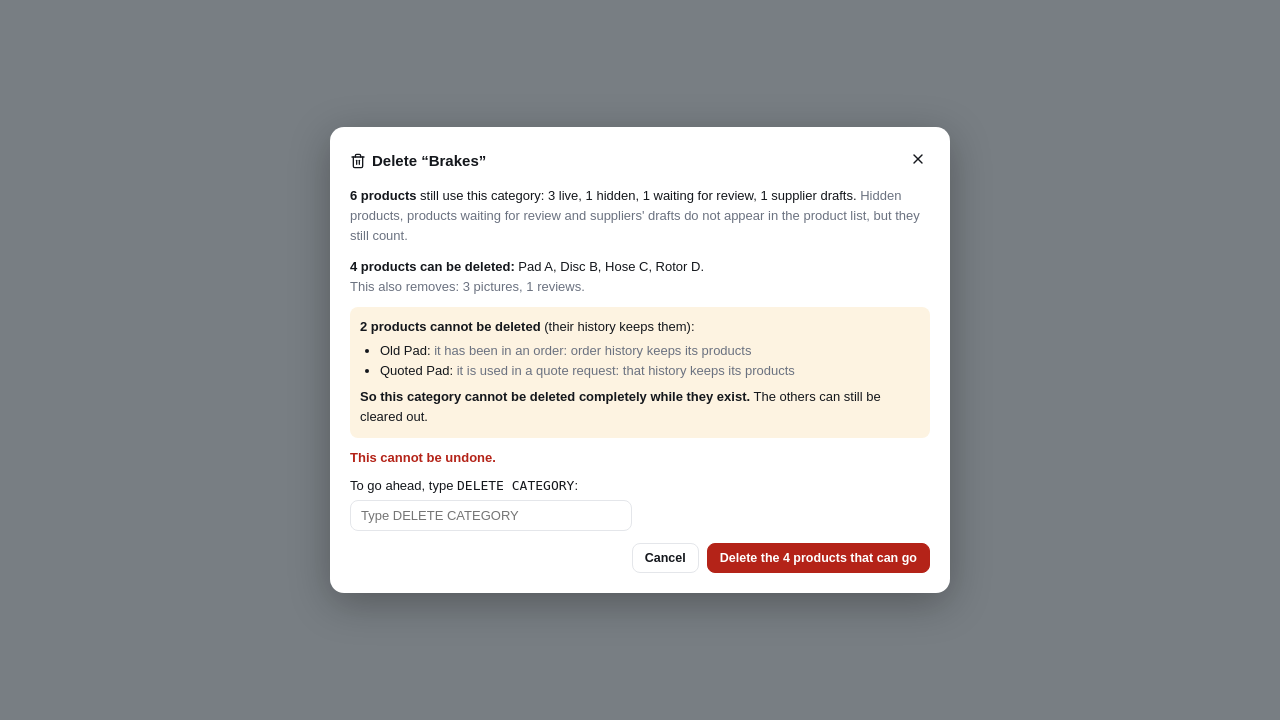
Test: clearing it out › sends the category and the sentence, then says what was deleted and why the category stays, and refreshes the page behind
The image size is (1280, 720).
Type "DELETE CATEGORY" into the field named "Type to confirm" at point(491, 515), box top-left (350, 500), bottom-right (632, 531)
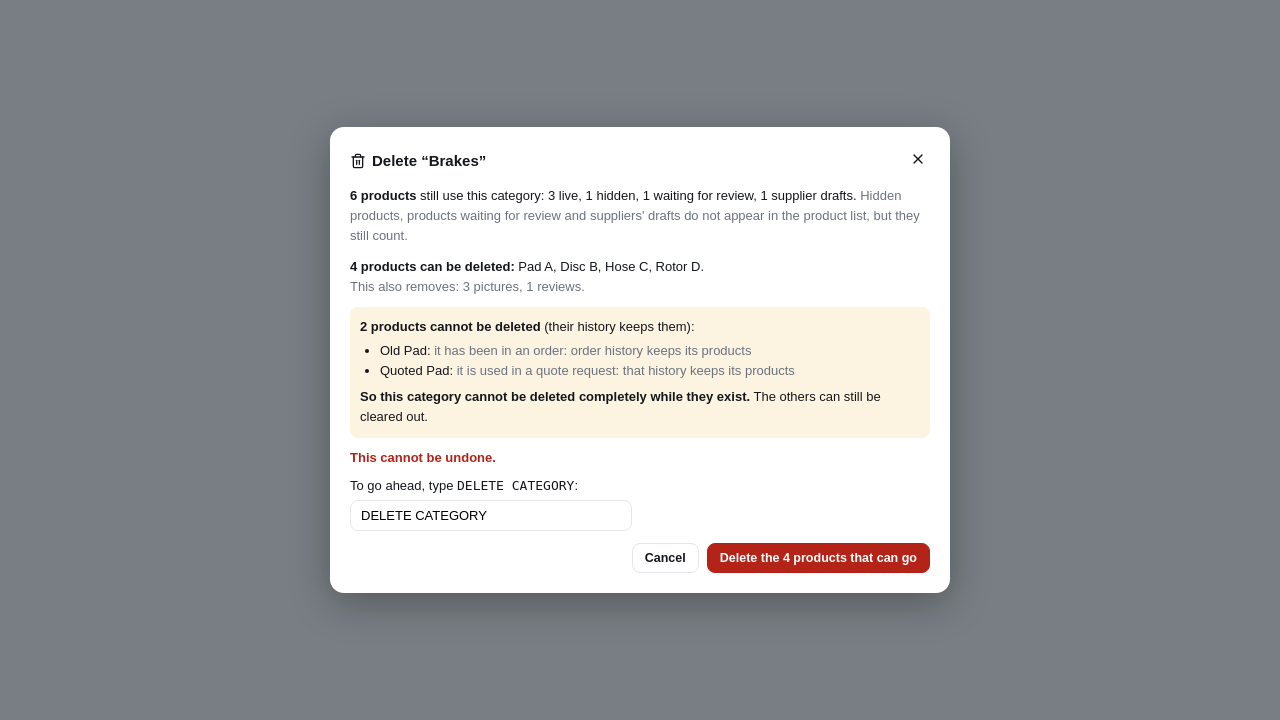
Click the button "Delete the 4 products that can go" at point(818, 558), box top-left (707, 543), bottom-right (930, 573)
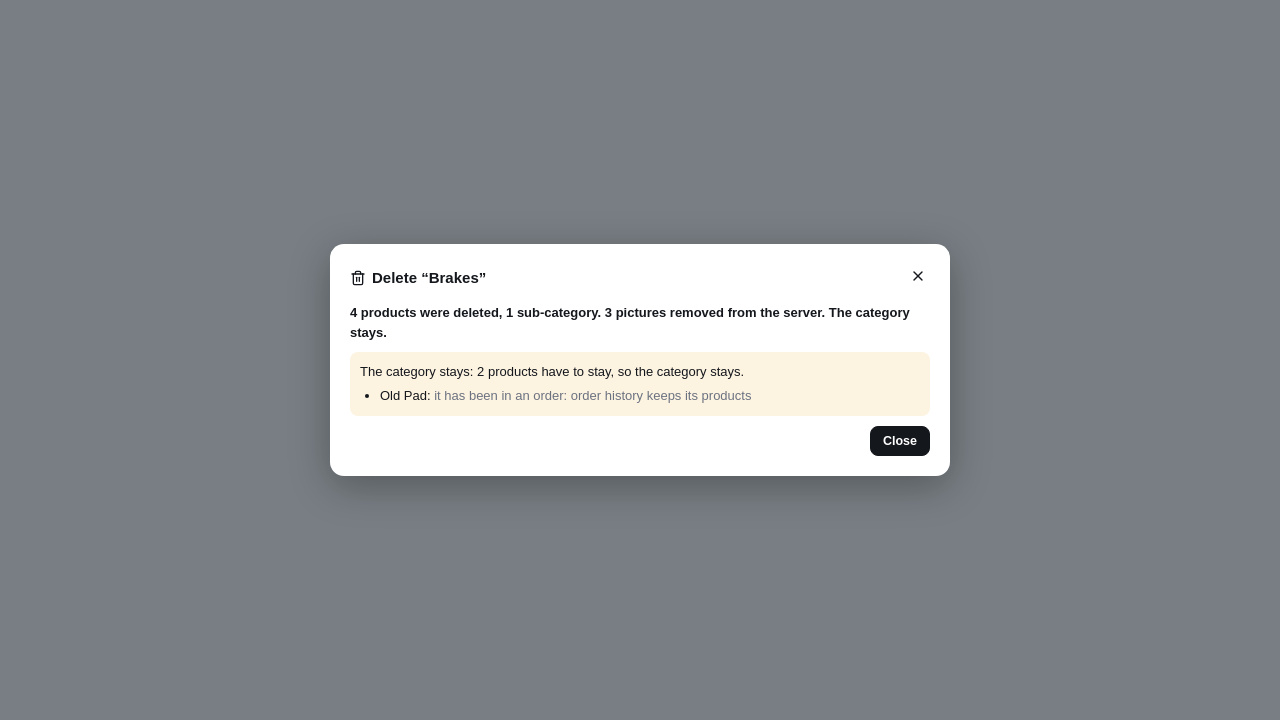
Expected: the list item "Old Pad" is shown, top-left (380, 388), bottom-right (427, 403)
Result: the text "4 products were deleted, 1 sub-category. 3 pictures removed from the server. The category stays." is shown at top-left (350, 303), bottom-right (930, 344)
Result: the text "2 products have to stay, so the category stays" is shown at top-left (477, 364), bottom-right (741, 378)
